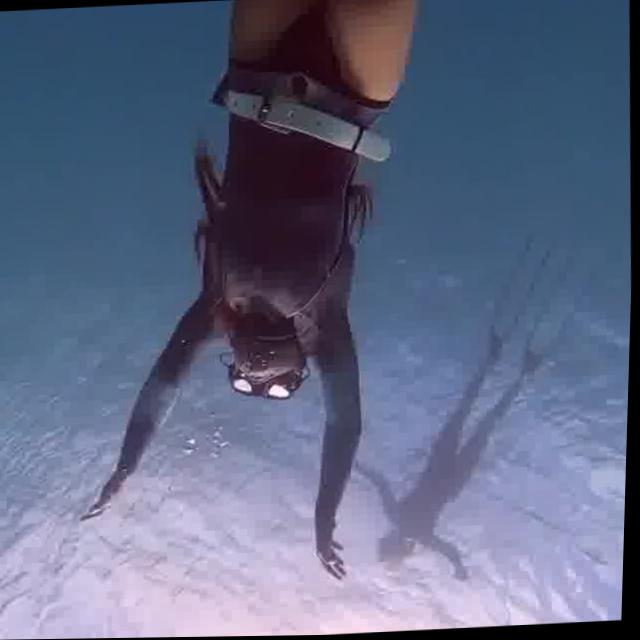human: (49, 0, 454, 602), (346, 325, 560, 599)
